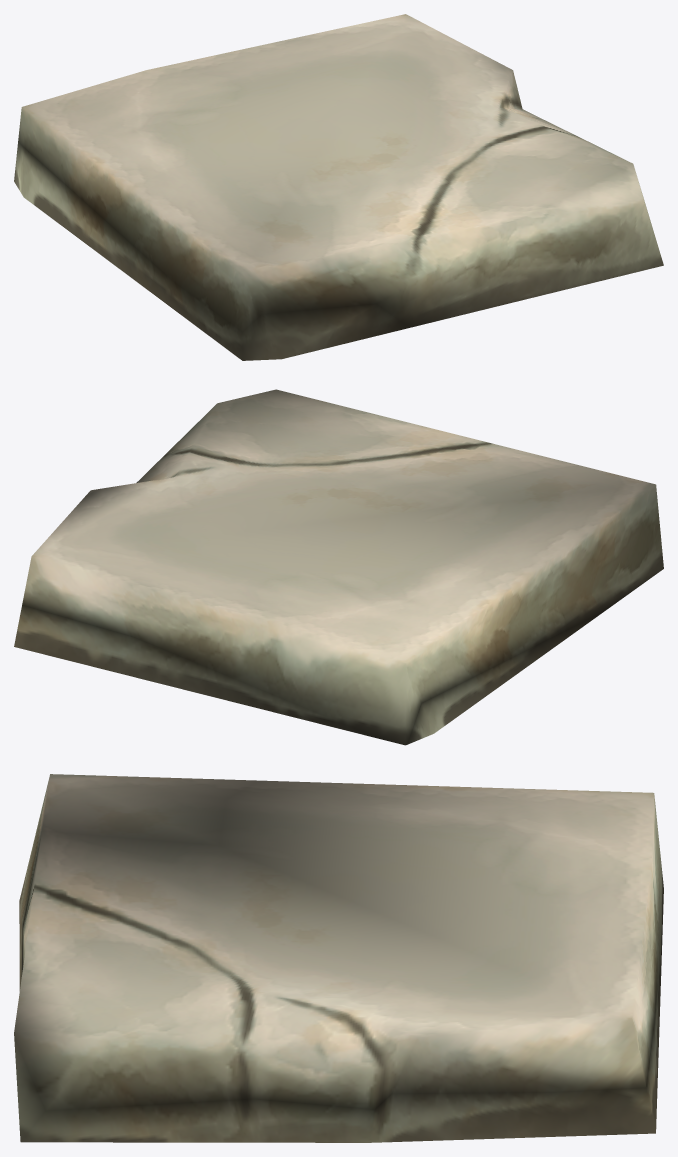
Rendered from mesh_StoneSlab_1.fbx.
3 views of the same model, one above another, from view 1: azimuth 30°, elevation 25°; view 2: azimuth 150°, elevation 25°; view 3: azimuth 270°, elevation 25° (orthographic). The views are drawn at different scales.
Visible parts, largest first — view 1: StoneSlab_1_LOD0; view 2: StoneSlab_1_LOD0; view 3: StoneSlab_1_LOD0.
Part boxes in pixels (left/top/right/bottom): StoneSlab_1_LOD0: left=14, top=14, right=663, bottom=360; StoneSlab_1_LOD0: left=14, top=389, right=663, bottom=745; StoneSlab_1_LOD0: left=14, top=774, right=663, bottom=1142.
Size of what is drawn, in the model's own units: 2.07 by 0.4023 by 2.16.
1 material, 1 textured.
